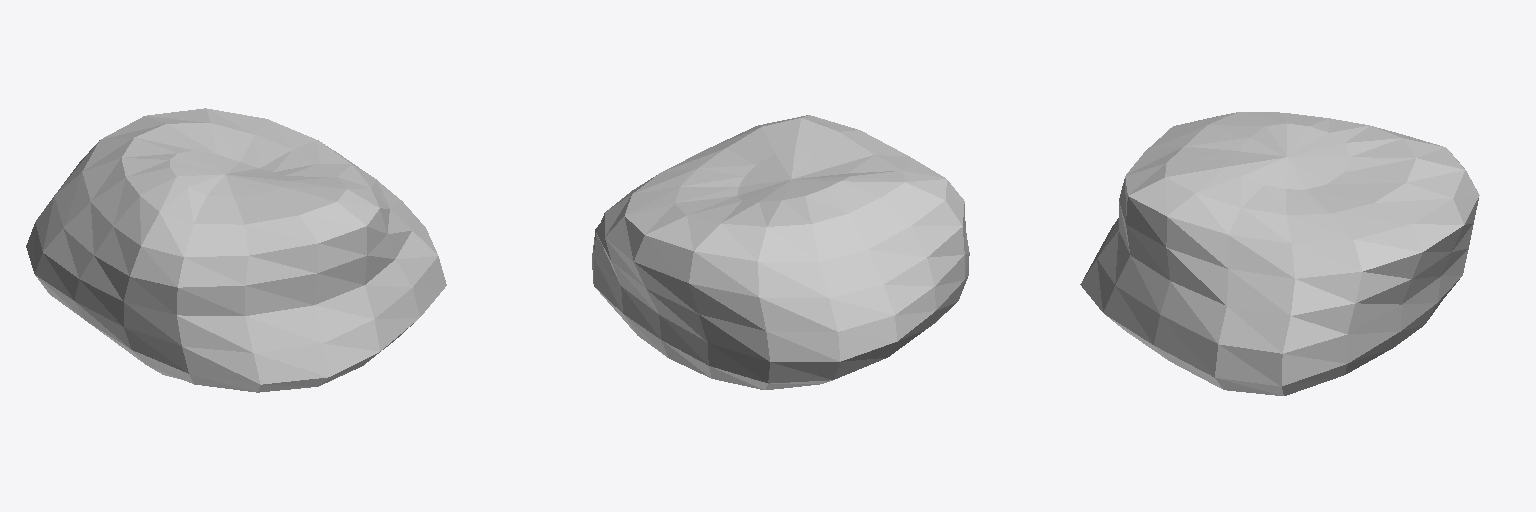
The model's file is rock3.Obj.
3 views of the same model, side by side, from view 1: azimuth 30°, elevation 25°; view 2: azimuth 150°, elevation 25°; view 3: azimuth 270°, elevation 25° (orthographic).
Visible parts, largest first — view 1: default; view 2: default; view 3: default.
Part boxes in pixels (x1,y1,x2,y2): default: (26,108,446,392); default: (592,115,969,389); default: (1080,112,1479,395).
Bounding box in the file's own units: 1.01 × 0.5273 × 0.9986.